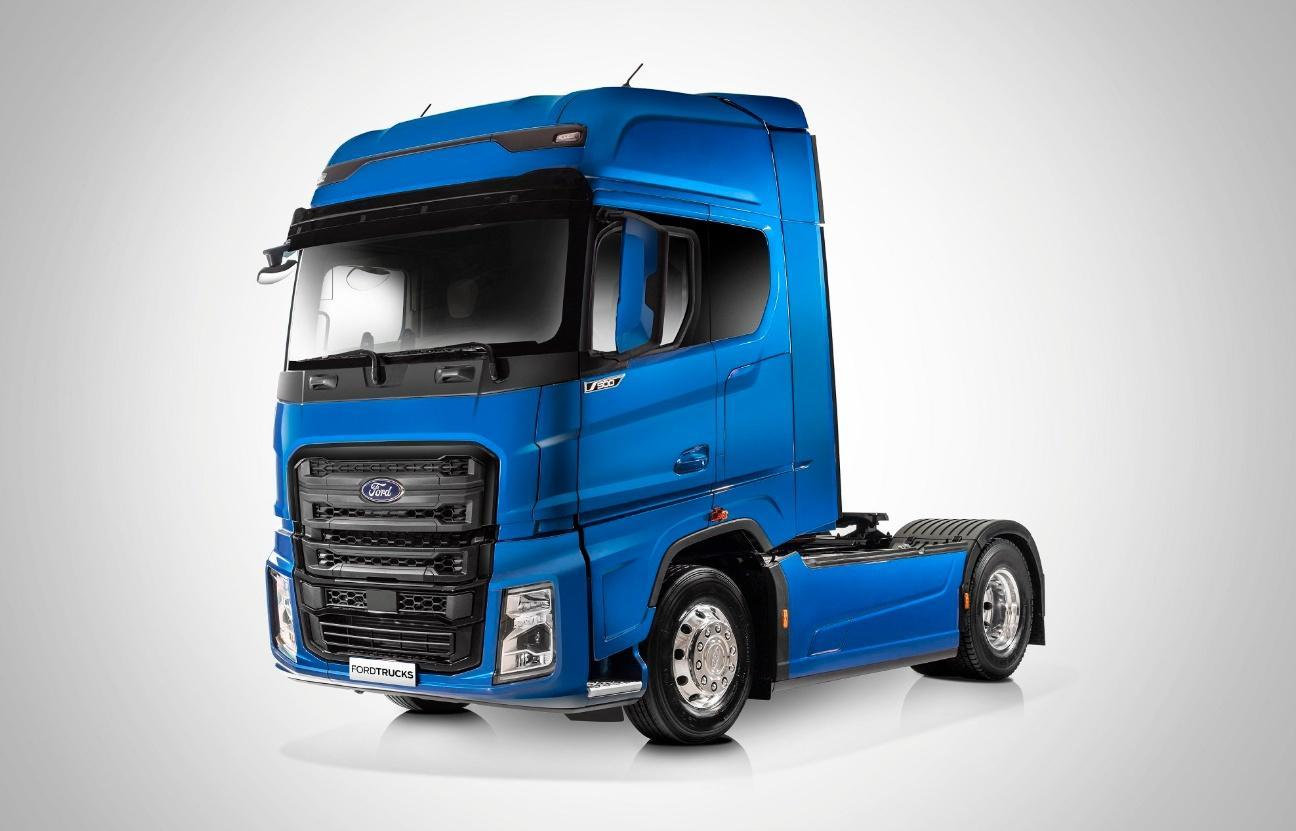truck: (232, 82, 1086, 720)
